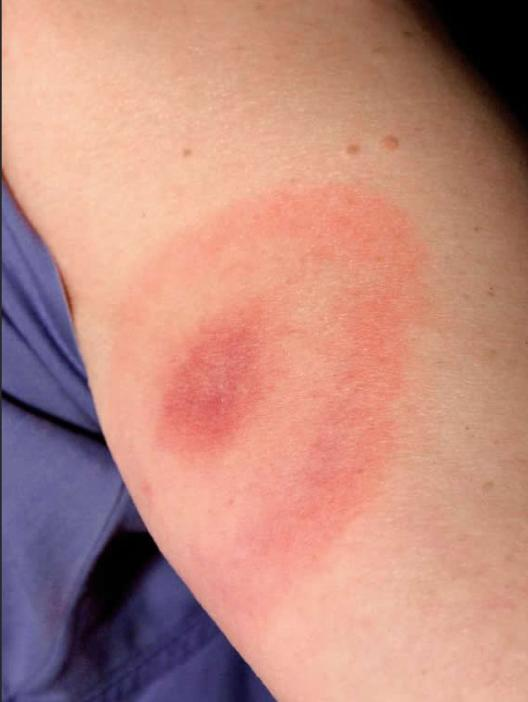Spider: (113, 181, 406, 568)
